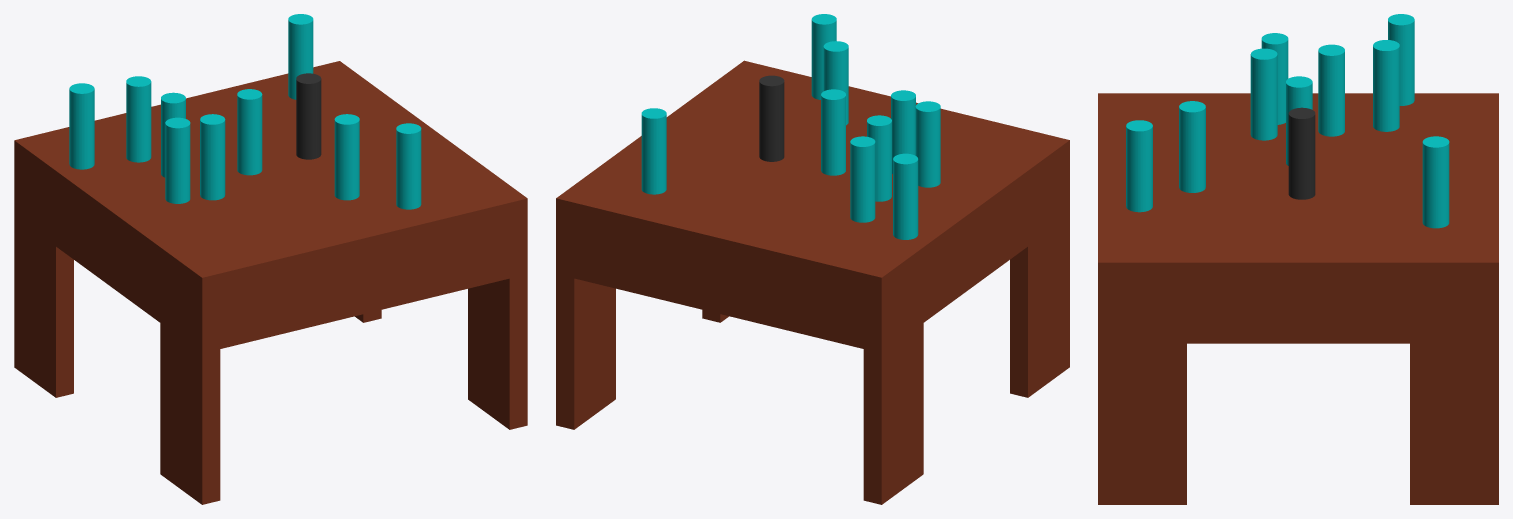
File: can_world_10_cans.dae
3 views of the same model, side by side, from view 1: azimuth 30°, elevation 25°; view 2: azimuth 150°, elevation 25°; view 3: azimuth 270°, elevation 25° (orthographic). The views are drawn at different scales.
Visible parts, largest first — view 1: base (×14); view 2: base (×14); view 3: base (×13).
Part boxes in pixels (x1=…): base (×14): x1=14, y1=14, x2=527, y2=504; base (×14): x1=556, y1=14, x2=1069, y2=504; base (×13): x1=1098, y1=14, x2=1498, y2=504.
Bounding box in the file's own units: 0.9 × 0.9 × 0.811.
